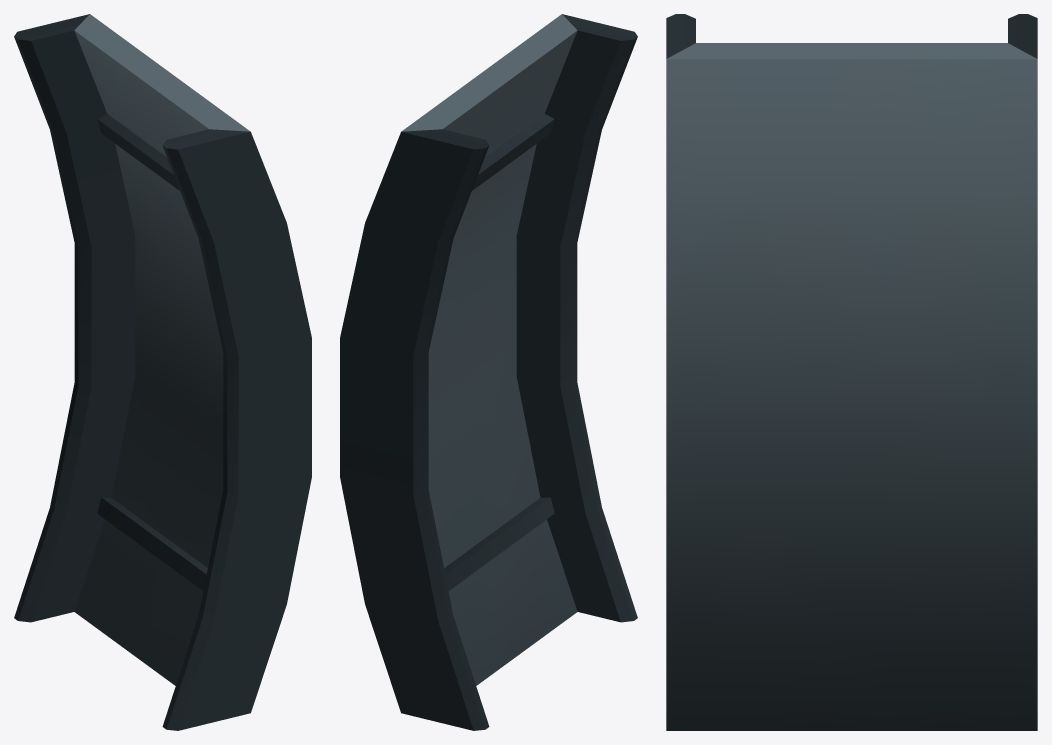
Rendered from SM_WallU_03.fbx.
3 renders of one model, left to right at view 1: azimuth 30°, elevation 25°; view 2: azimuth 150°, elevation 25°; view 3: azimuth 270°, elevation 25°, orthographic. The views are drawn at different scales.
Parts seen in each view (by area): view 1: SM_WallU_03; view 2: SM_WallU_03; view 3: SM_WallU_03.
Part boxes in pixels (<box>): SM_WallU_03: <box>14,14,311,730</box>; SM_WallU_03: <box>340,14,637,730</box>; SM_WallU_03: <box>666,14,1037,730</box>.
Bounding box in the file's own units: 1.01 × 2 × 3.99.
